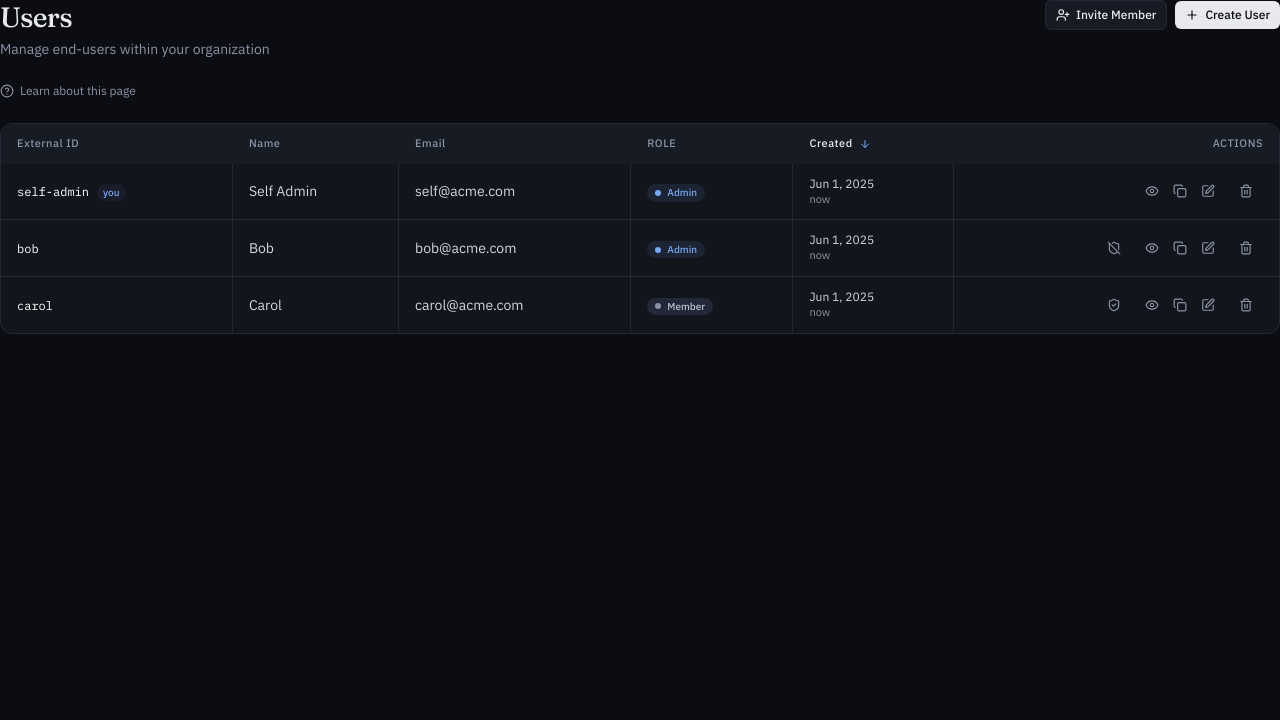
Test: UsersPage › keeps the dialog open and shows the server detail on a 409
The width and height of the screenshot is (1280, 720).
Click the button "Invite Member" at {"x": 1106, "y": 15}, box [1045,0,1167,30]
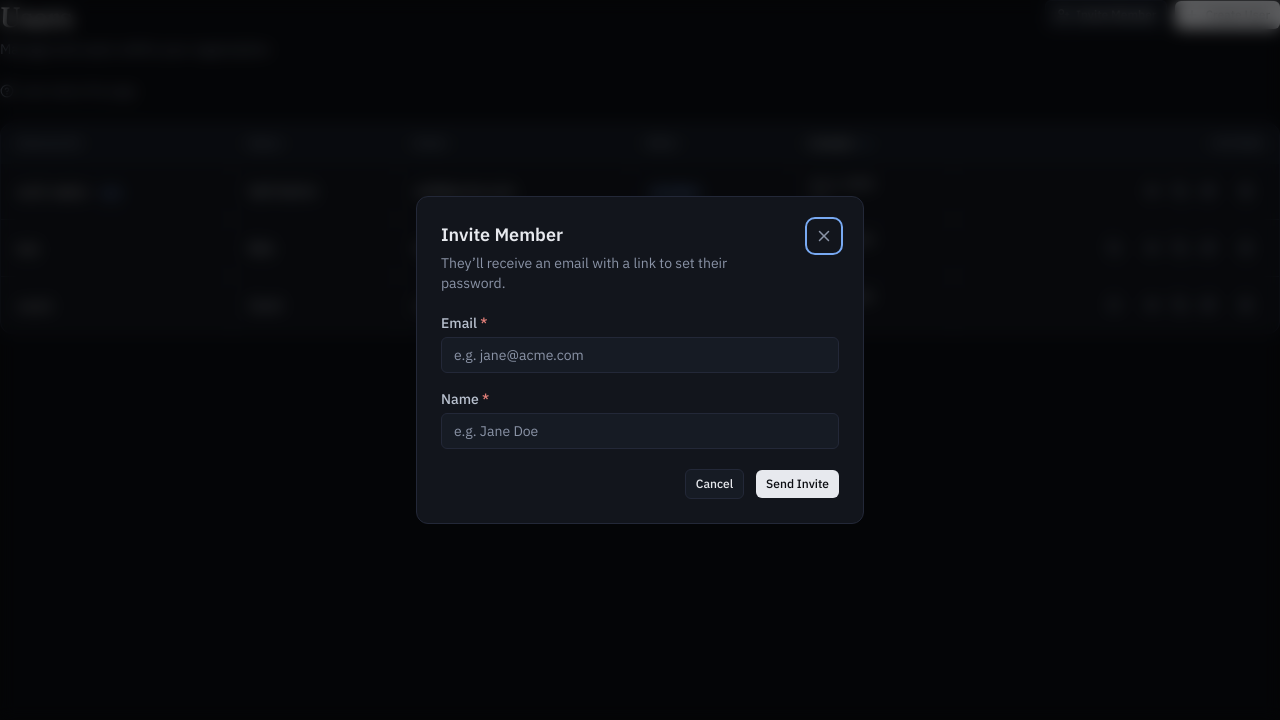
Type "jane@acme.com" into the field with placeholder "e.g. jane@acme.com" at {"x": 640, "y": 355}, box [441,337,839,373]
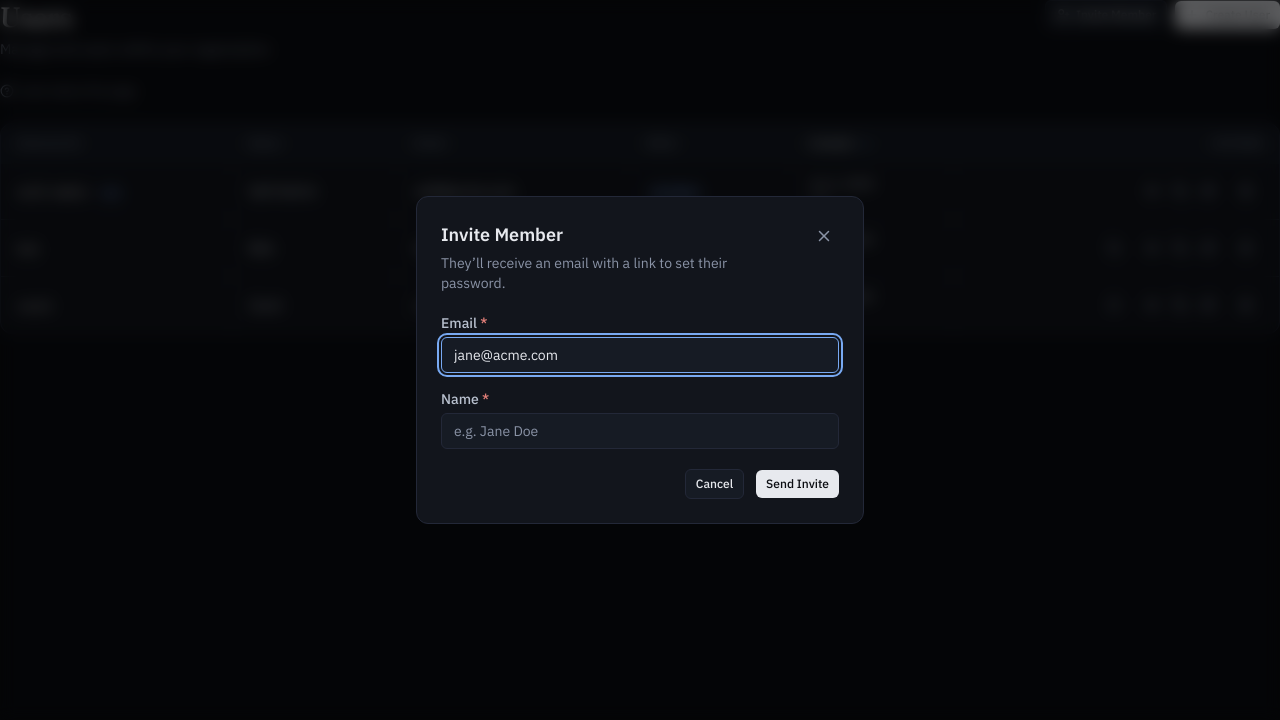
Type "Jane Doe" into the field with placeholder "e.g. Jane Doe" at {"x": 640, "y": 431}, box [441,413,839,449]
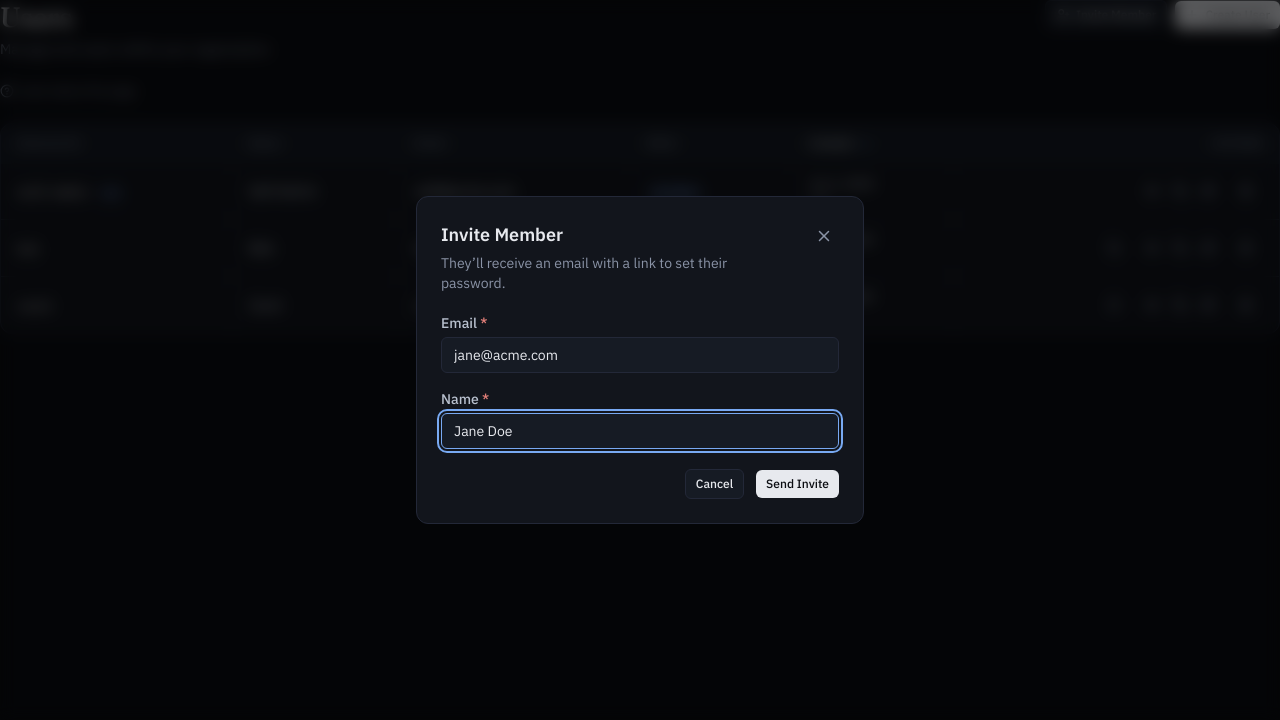
Click the button "Send Invite" at {"x": 798, "y": 484}, box [756,470,839,498]
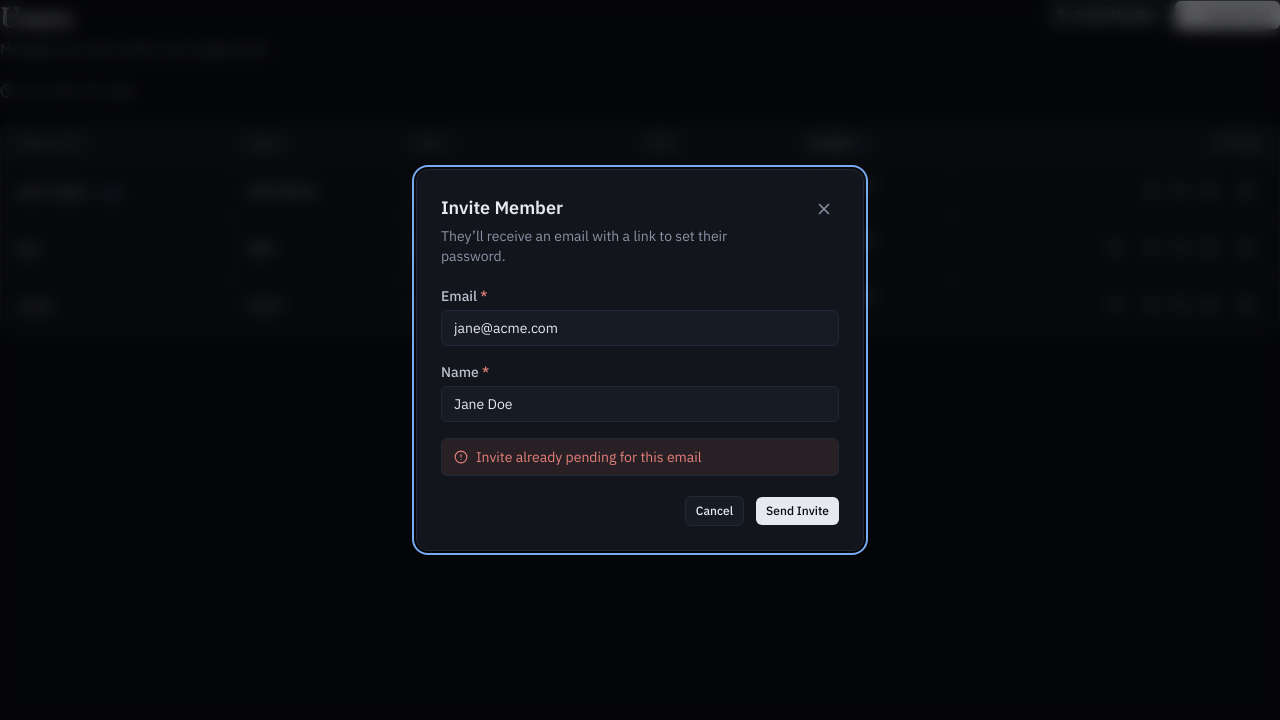
Now the button "Send Invite" is shown, box [756,497,839,525]
Now the text "Invite already pending for this email" is shown, box [441,438,839,476]
